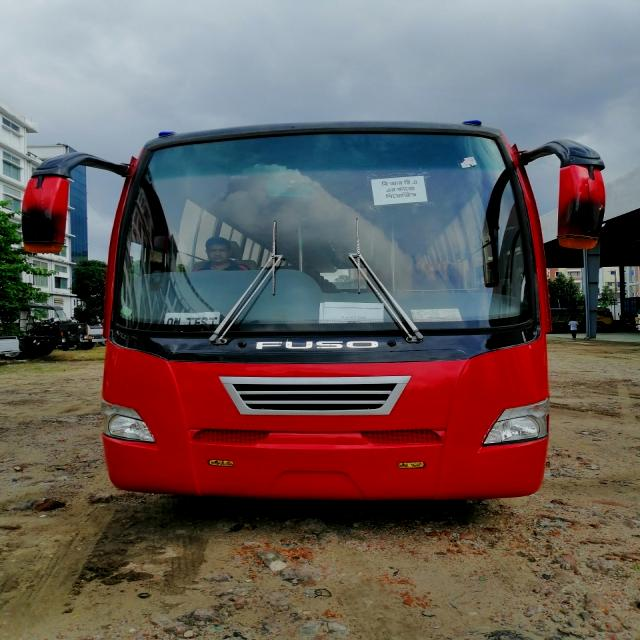bus: (10, 97, 640, 529)
